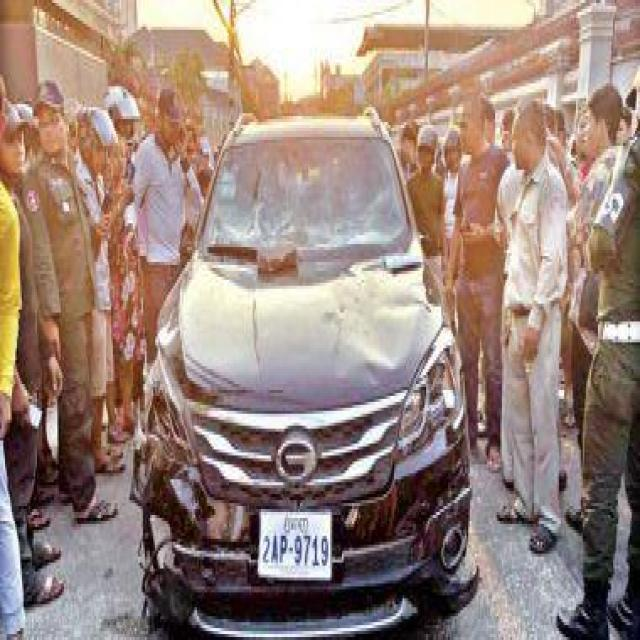Phnom_Penh: (283, 512, 309, 534)
